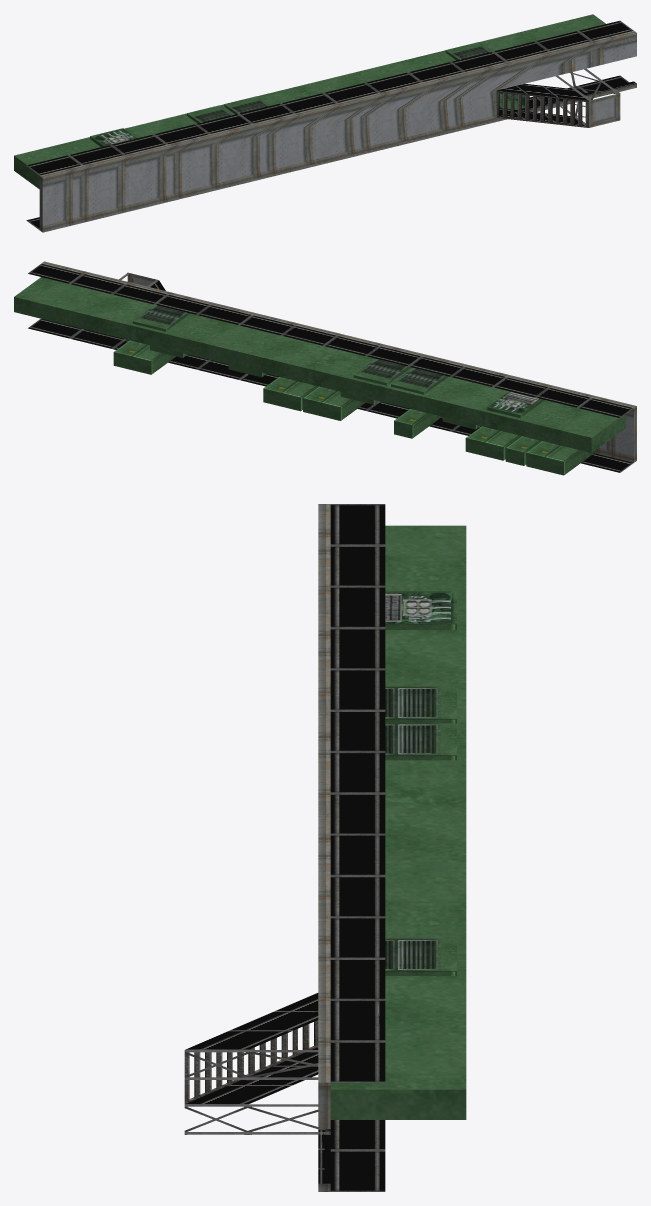
The model's file is dam_gencrane01.obj.
3 renders of one model, top to bottom at view 1: azimuth 30°, elevation 25°; view 2: azimuth 150°, elevation 25°; view 3: azimuth 270°, elevation 25°, orthographic. The views are drawn at different scales.
Visible parts, largest first — view 1: dam_gencrane01; view 2: dam_gencrane01; view 3: dam_gencrane01.
Boxes of the visible parts, x1,y1,x2,y2 form: dam_gencrane01: [14, 14, 636, 232]; dam_gencrane01: [14, 261, 636, 475]; dam_gencrane01: [184, 504, 466, 1191].
Bounding box in the file's own units: 22.75 × 2.01 × 4.68.
6 materials, 6 textured.
